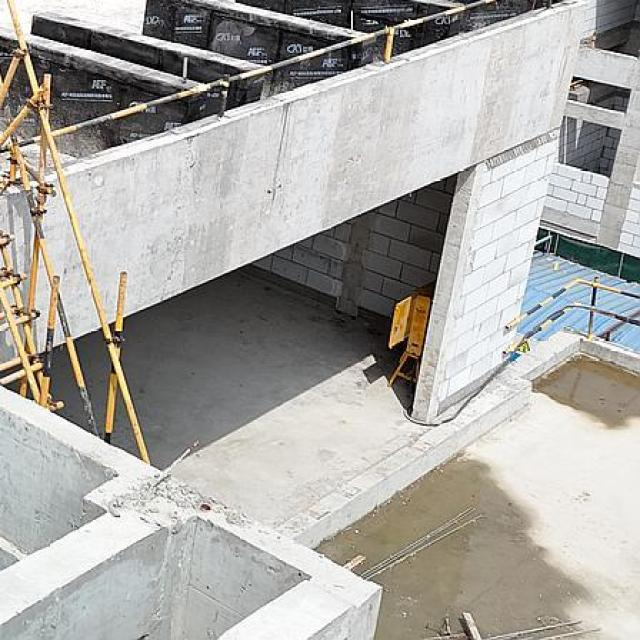Guardrail: (0, 1, 499, 158), (504, 274, 640, 359)
